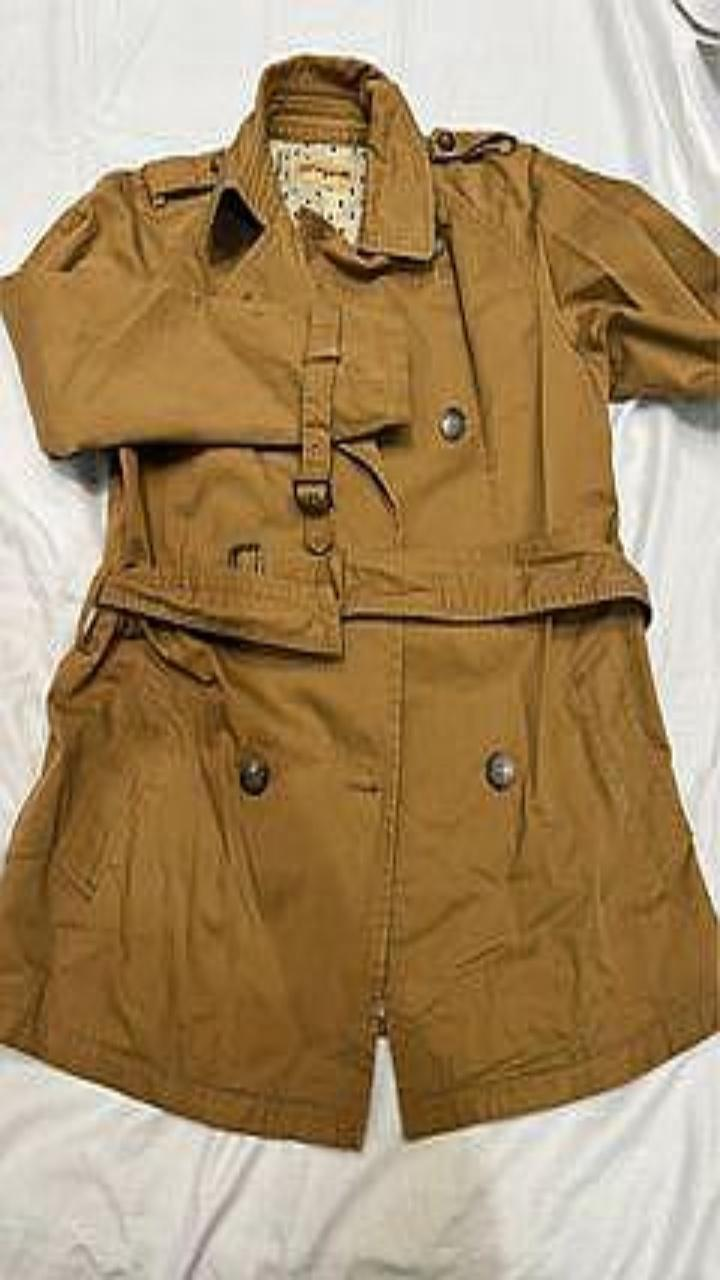Coat: (0, 53, 719, 1147)
